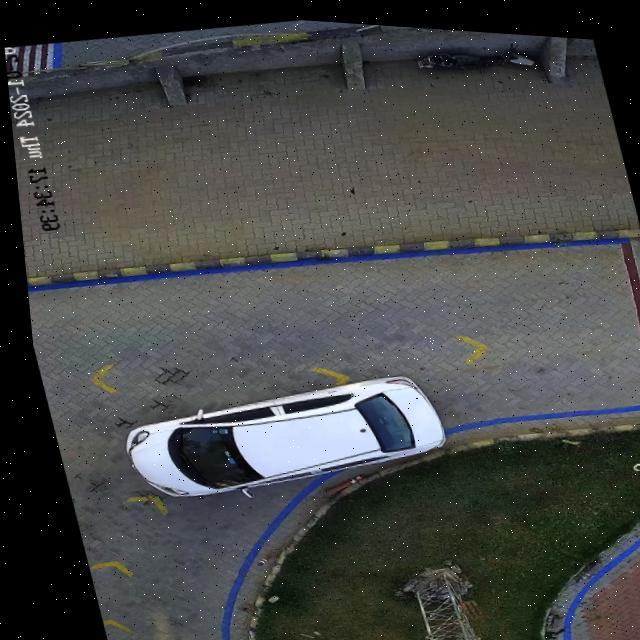car: (115, 370, 436, 494)
